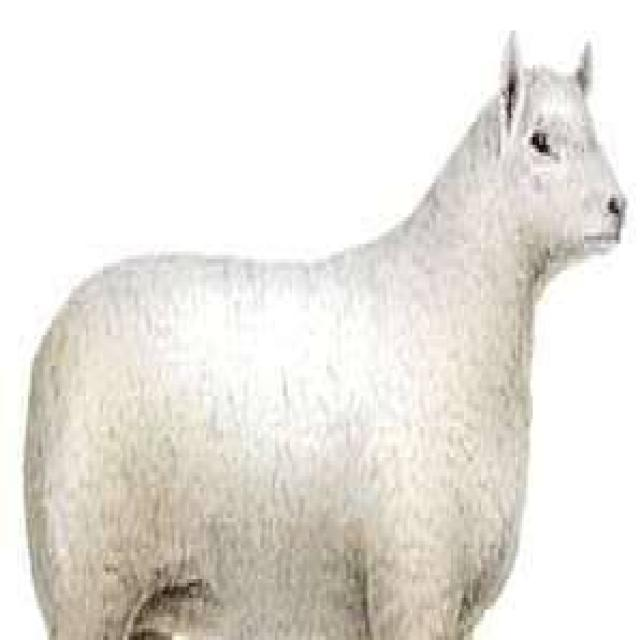Boar: (22, 27, 627, 636)
